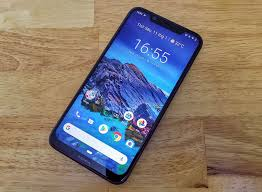nokia: (44, 8, 205, 184)
